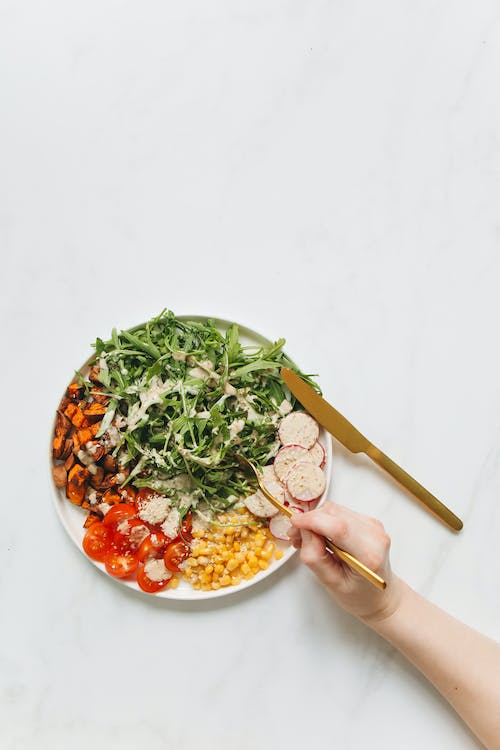knife: (278, 364, 467, 535)
